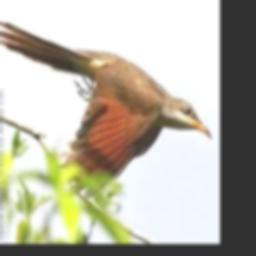Cuckoo: (0, 20, 211, 198)
